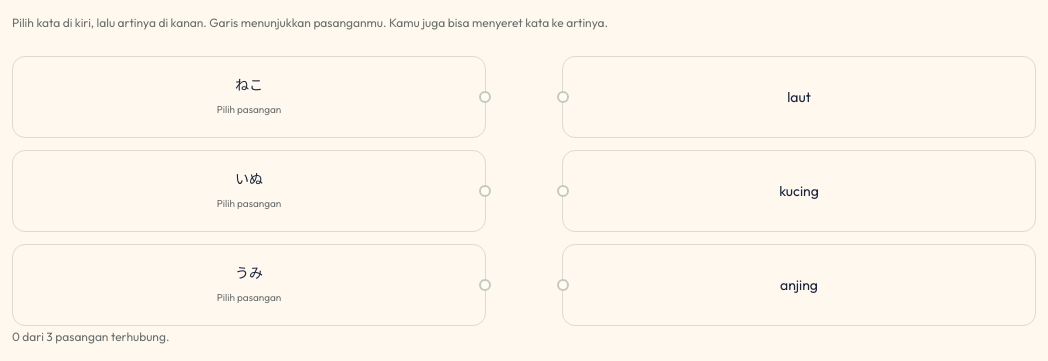
connected matching exercise › draws lines for pairs and keeps the existing line while selecting a replacement
The width and height of the screenshot is (1048, 361).
What coordinates should you click on to do the following:
click the button with aria-label "ねこ, pilih pasangan"
I would click on:
 (249, 97)
Its box is [12,56,486,138].
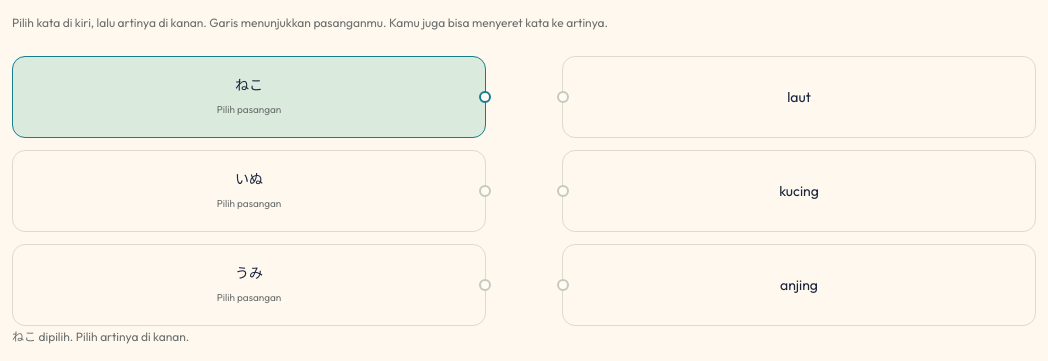
What coordinates should you click on to do the following:
click the button "kucing"
I would click on:
 (799, 191)
Its box is [562,150,1036,232].
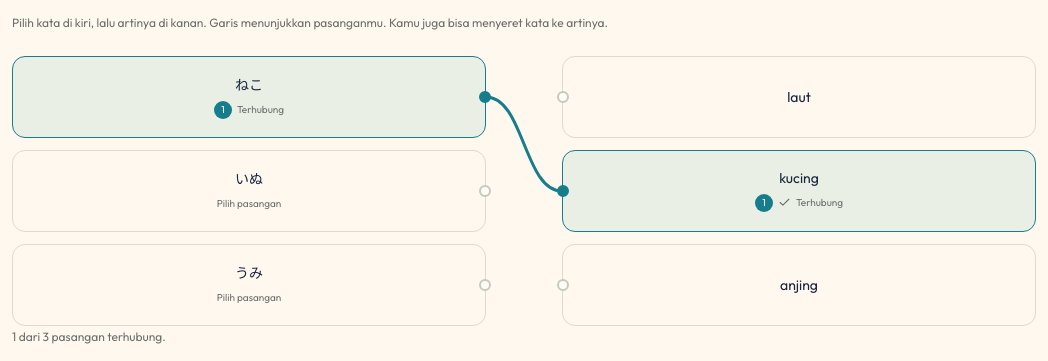
expect the button with aria-label "kucing, pasangan 1 dengan ねこ" is shown: met, box [562,150,1036,232]
What coordinates should you click on to do the following:
click the button with aria-label "ねこ, pasangan 1: kucing"
I would click on:
 (249, 97)
Its box is [12,56,486,138].
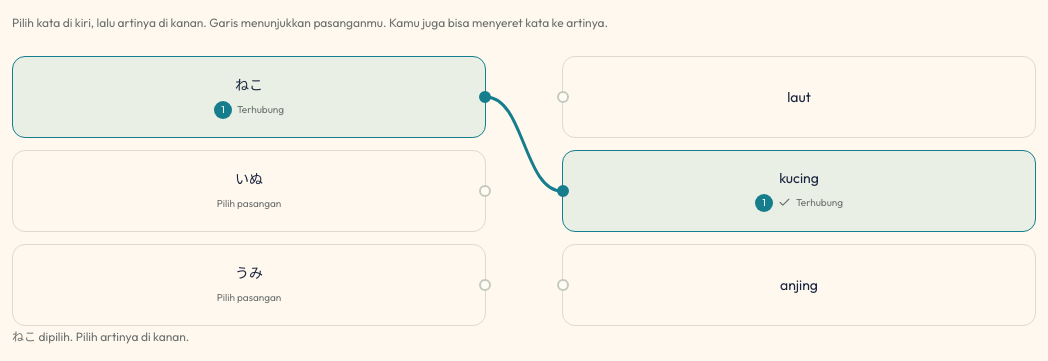
What coordinates should you click on to do the following:
click the button "laut"
I would click on:
 (799, 97)
Its box is [562,56,1036,138].
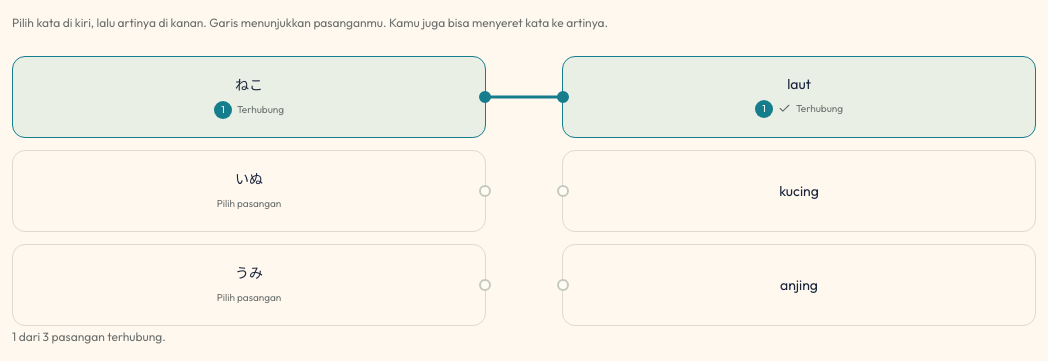
expect the button with aria-label "laut, pasangan 1 dengan ねこ" is shown: met, box [562,56,1036,138]
